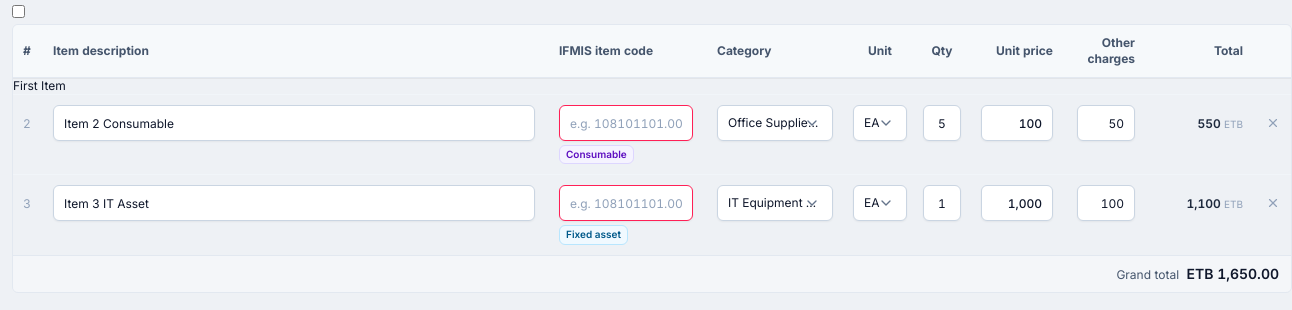
Test case: Model 19 ReceiptItems: VAT and Additional Charges Scenarios › categorizes IFMIS codes starting with 3 as Fixed asset on the row badge
Expected: the button with aria-label "Item 2 item type" reads "Consumable", [559,145,634,164]
Type "308101101.0001" into the field named "Item 2 item code". click: x=626, y=123
box: [559,105,693,141]
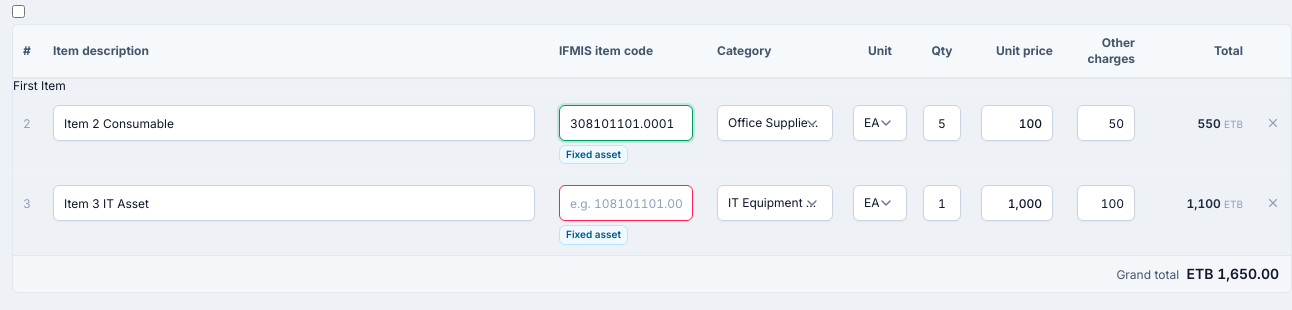
Expected: the button with aria-label "Item 2 item type" reads "Fixed asset", [559,145,628,164]
Note: Type a code starting with 1
Replace the text in the field named "Item 2 item code" with "108101101.0021". click: x=626, y=123
box: [559,105,693,141]
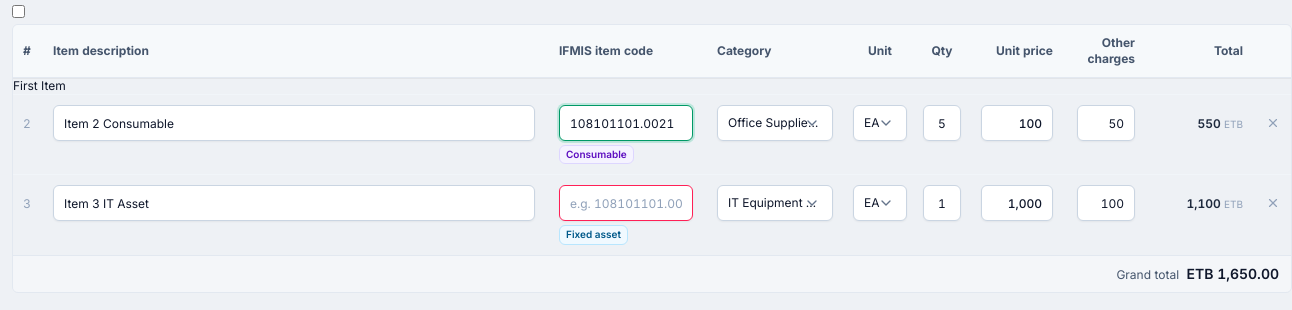
Expected: the button with aria-label "Item 2 item type" reads "Consumable", [559,145,634,164]
